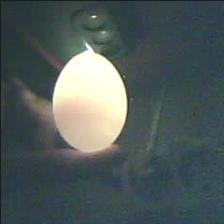infertile: (49, 48, 129, 160)
